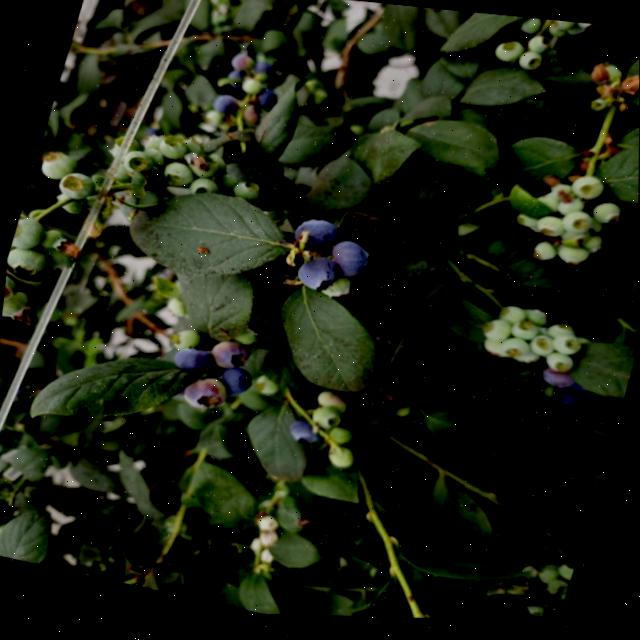RipeBlueBerry: (287, 248, 352, 304), (281, 211, 337, 260), (166, 337, 217, 386)
Semi-RipeBlueBerry: (318, 227, 400, 301), (172, 374, 232, 430)
UnripeBlueBerry: (50, 160, 101, 210)
